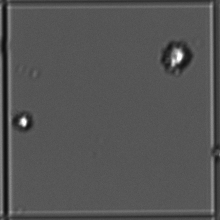Living Cell: (157, 38, 195, 75), (10, 108, 36, 134)
